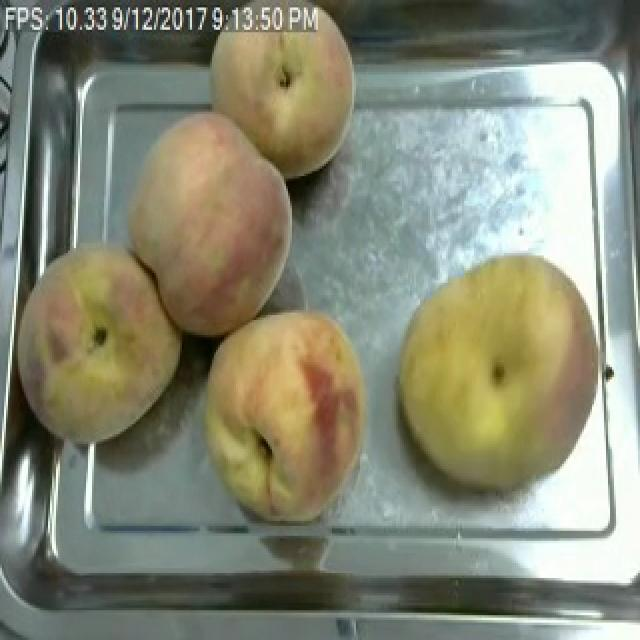Fruit: (388, 246, 614, 501), (116, 104, 302, 347), (194, 301, 380, 528), (12, 231, 192, 456), (196, 7, 366, 186)
